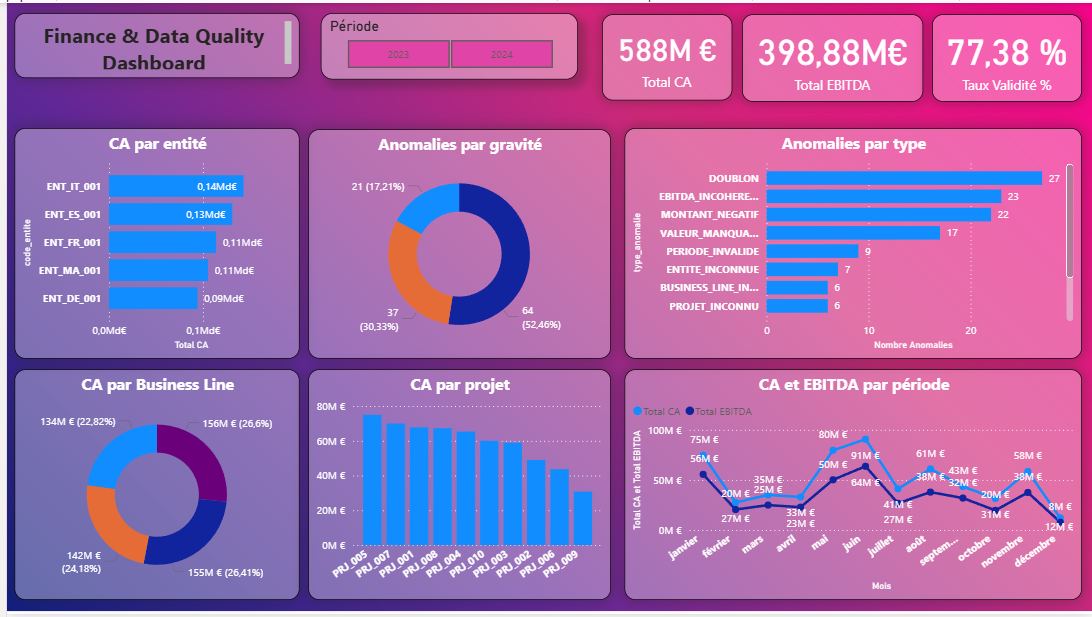

Layout of this report page (visuals, bound fields, positions):
{"tool":"powerbi","page":{"name":"01 - Executive Summary","canvas":[1280,720],"ordinal":0},"visuals":[{"type":"textbox","box":[9.4,12.1,336.3,76.7],"z":0},{"type":"lineChart","title":"CA et EBITDA par période","fields":{"Category":["Calendrier.Date.Variation.Hiérarchie de dates.Mois"],"Y":["Mesures.Total CA","Mesures.Total EBITDA"]},"box":[727.7,431.8,539.4,271.7],"z":1},{"type":"barChart","title":"Anomalies par type","fields":{"Category":["rapport_anomalies_powerbi.type_anomalie"],"Y":["Mesures.Nombre Anomalies"]},"box":[727.7,148,539.4,271.7],"z":2},{"type":"donutChart","title":"CA par Business Line","fields":{"Category":["donnees_finance_powerbi.code_business_line"],"Y":["Mesures.Total CA"]},"box":[9.4,431.8,336.3,271.7],"z":3},{"type":"donutChart","title":"Anomalies par gravité","fields":{"Category":["rapport_anomalies_powerbi.gravite"],"Y":["Mesures.Nombre Anomalies"]},"box":[355.1,149.3,356.5,270.4],"z":4},{"type":"card","fields":{"Values":["Mesures.Total EBITDA"]},"box":[866.3,13.3,213.6,103.1],"z":6},{"type":"card","fields":{"Values":["Mesures.Total CA"]},"box":[701.3,13.3,153.2,101.7],"z":7},{"type":"barChart","title":"CA par entité","fields":{"Category":["donnees_finance_powerbi.code_entite"],"Y":["Mesures.Total CA"]},"box":[9.4,148,336.3,271.7],"z":8},{"type":"lineStackedColumnComboChart","title":"CA par projet","fields":{"Category":["donnees_finance_powerbi.code_projet"],"Y":["Mesures.Total CA"]},"box":[355.1,431.8,356.5,271.7],"z":9},{"type":"slicer","title":"Période","fields":{"Values":["Calendrier.Date.Variation.Hiérarchie de dates.Année"]},"box":[369.8,11.8,303.5,78.1],"z":10},{"type":"card","fields":{"Values":["Mesures.Taux Validité %"]},"box":[1090.2,13.3,176.8,103.1],"z":11}]}

Visuals, with their boxes in screenshot pixels (x1, y1, x2, y2), scaled from the page's 1280x720 canvas onto the 1092x617 screenshot:
textbox: [left=8, top=10, right=295, bottom=76]
"CA et EBITDA par période" lineChart: [left=621, top=370, right=1081, bottom=603]
"Anomalies par type" barChart: [left=621, top=127, right=1081, bottom=360]
"CA par Business Line" donutChart: [left=8, top=370, right=295, bottom=603]
"Anomalies par gravité" donutChart: [left=303, top=128, right=607, bottom=360]
card - Mesures.Total EBITDA: [left=739, top=11, right=921, bottom=100]
card - Mesures.Total CA: [left=598, top=11, right=729, bottom=99]
"CA par entité" barChart: [left=8, top=127, right=295, bottom=360]
"CA par projet" lineStackedColumnComboChart: [left=303, top=370, right=607, bottom=603]
"Période" slicer: [left=315, top=10, right=574, bottom=77]
card - Mesures.Taux Validité %: [left=930, top=11, right=1081, bottom=100]
